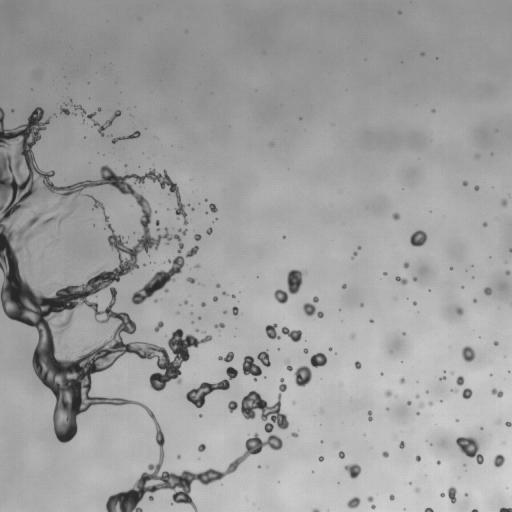droplet: (72, 103, 120, 135), (241, 355, 261, 381), (303, 296, 323, 318), (294, 365, 311, 386), (281, 326, 301, 342), (410, 230, 427, 246), (265, 323, 281, 339), (310, 352, 327, 367), (344, 464, 361, 478), (461, 346, 475, 362), (257, 350, 270, 366), (218, 352, 234, 362), (493, 454, 505, 467), (347, 496, 360, 508), (447, 486, 456, 503), (462, 388, 472, 399), (395, 276, 407, 285), (491, 388, 503, 397), (154, 321, 163, 331), (456, 375, 464, 385), (60, 107, 71, 114), (209, 204, 217, 212), (214, 323, 224, 329), (484, 287, 491, 295), (456, 307, 463, 315), (354, 361, 361, 369), (385, 390, 393, 397), (198, 443, 205, 451), (178, 229, 187, 235), (186, 277, 195, 283), (232, 306, 238, 315), (392, 213, 399, 220), (194, 234, 201, 241), (338, 451, 345, 458), (501, 199, 507, 207), (206, 227, 212, 234), (399, 441, 405, 448), (403, 262, 409, 268), (382, 451, 388, 457), (291, 432, 298, 437), (399, 378, 405, 383), (318, 456, 324, 461), (389, 494, 394, 500), (462, 181, 467, 186), (303, 348, 308, 353), (452, 388, 457, 393), (439, 376, 445, 380), (418, 403, 424, 407), (505, 422, 511, 426), (416, 455, 420, 461), (474, 185, 478, 190), (155, 220, 159, 225), (412, 277, 417, 281), (213, 296, 217, 301), (350, 334, 354, 339), (493, 341, 498, 345), (428, 401, 433, 405), (440, 493, 445, 497), (269, 142, 273, 146), (483, 222, 487, 226), (357, 245, 361, 249), (506, 270, 510, 274), (342, 284, 346, 288), (222, 291, 226, 295), (201, 302, 205, 306), (407, 401, 411, 405), (415, 488, 419, 492), (195, 264, 200, 267), (475, 154, 479, 157), (216, 284, 220, 287), (231, 294, 235, 297), (413, 301, 416, 305), (415, 394, 419, 397), (496, 420, 499, 424), (437, 460, 440, 464), (421, 52, 424, 55), (11, 109, 14, 112), (190, 207, 193, 210), (383, 272, 386, 275), (154, 299, 157, 302), (473, 299, 476, 302), (360, 303, 363, 306), (223, 310, 226, 313), (370, 319, 373, 322), (329, 347, 332, 350), (199, 414, 202, 417), (177, 455, 180, 458), (509, 248, 511, 252), (98, 108, 100, 111), (432, 109, 434, 112), (282, 236, 285, 238), (450, 267, 452, 270), (184, 301, 187, 303), (198, 316, 200, 319), (417, 412, 419, 415), (456, 419, 458, 422), (258, 465, 260, 468), (465, 493, 467, 496), (398, 11, 400, 13), (73, 113, 75, 115), (196, 329, 198, 331), (292, 401, 294, 403)
ligament: (0, 108, 287, 511), (186, 366, 238, 408), (274, 269, 304, 303), (39, 202, 75, 227), (456, 437, 483, 464), (17, 213, 42, 240), (112, 130, 140, 143), (367, 496, 375, 508), (285, 359, 292, 371), (499, 507, 511, 511), (368, 410, 372, 421), (351, 251, 357, 258), (424, 507, 433, 511), (311, 508, 320, 511), (471, 509, 478, 511)
